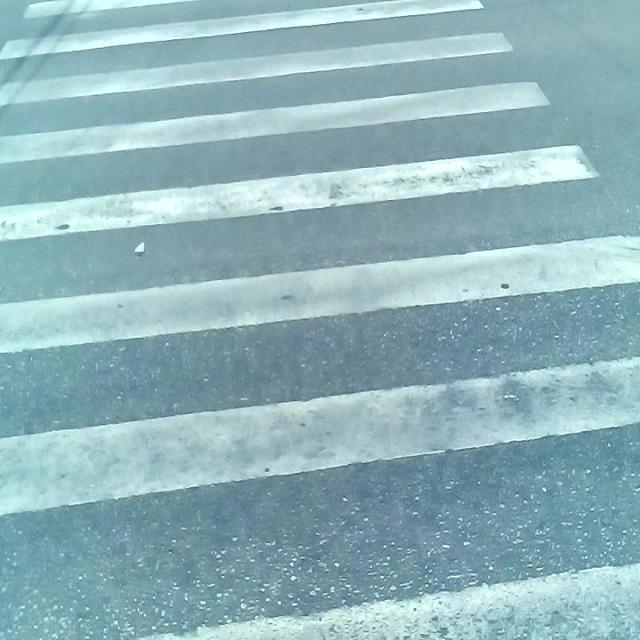crosswalk: (0, 1, 640, 640)
